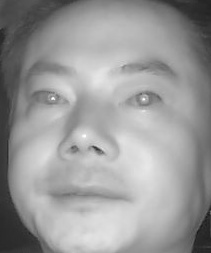eye: (29, 85, 71, 111), (122, 90, 164, 113)
mouth: (48, 176, 129, 225)
